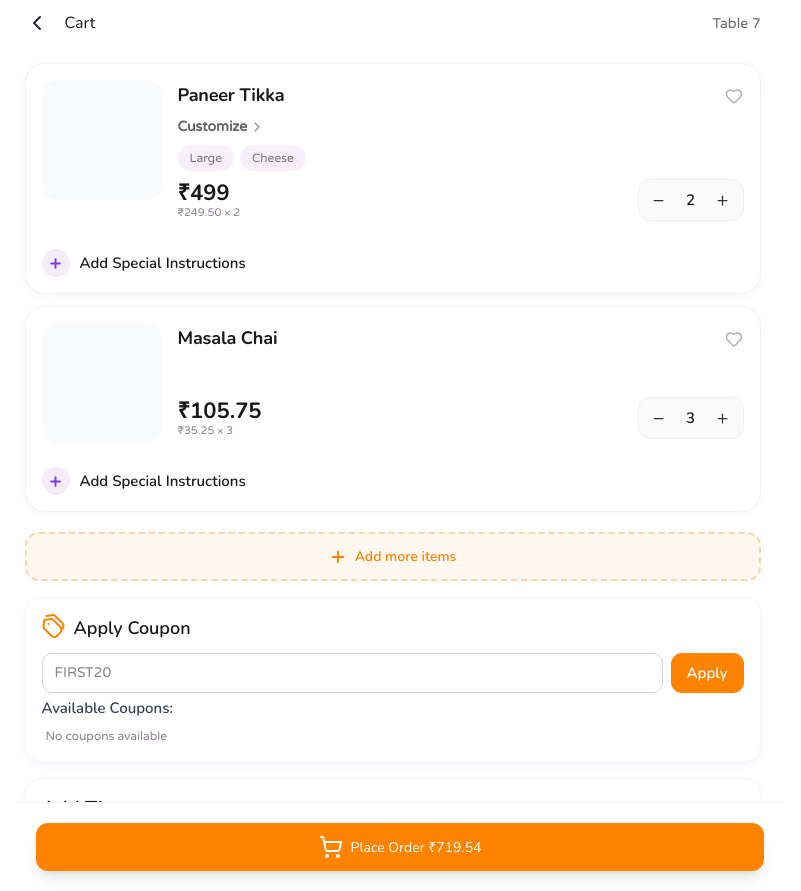
Test case: Cart — coupon › rejection "Coupon has expired" is shown inline as {} and no discount is applied
The image size is (801, 891).
Type "X" into the field named "Coupon code" at (352, 673), box [42,653,662,693]
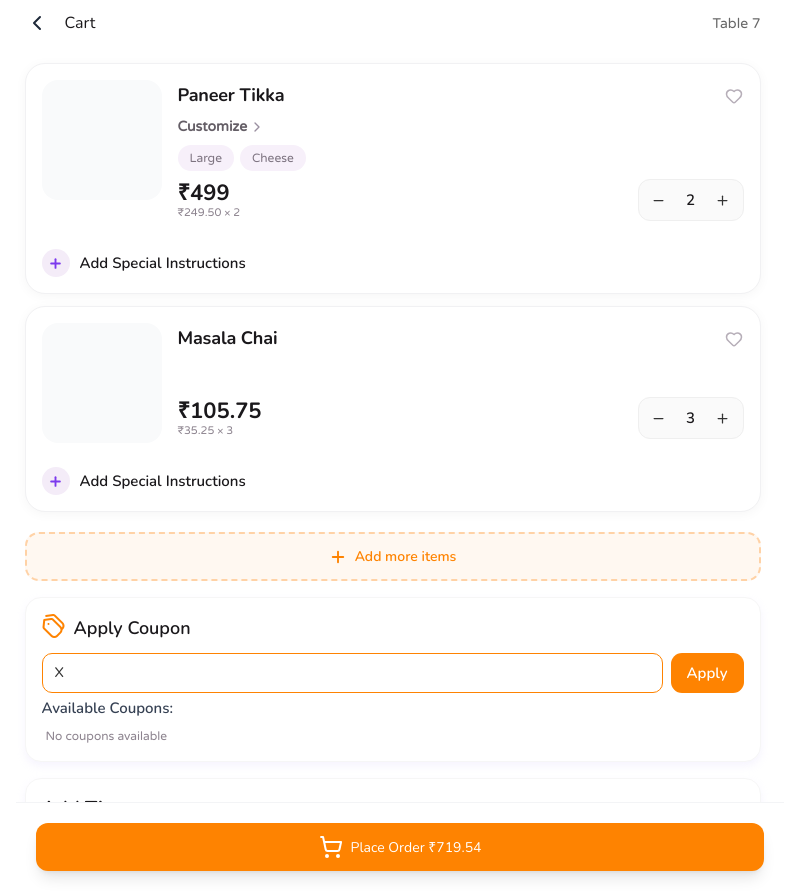
Click the button "Apply" at (707, 673), box [670,653,744,693]
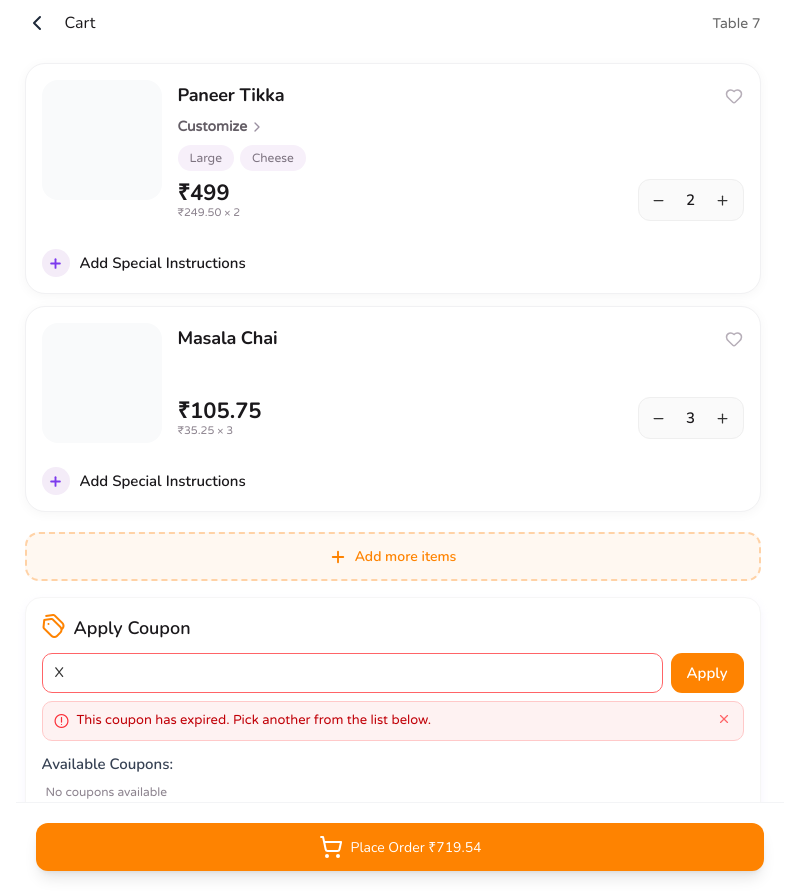
Check: the message shows "This coupon has expired", box [76,712,431,728]
